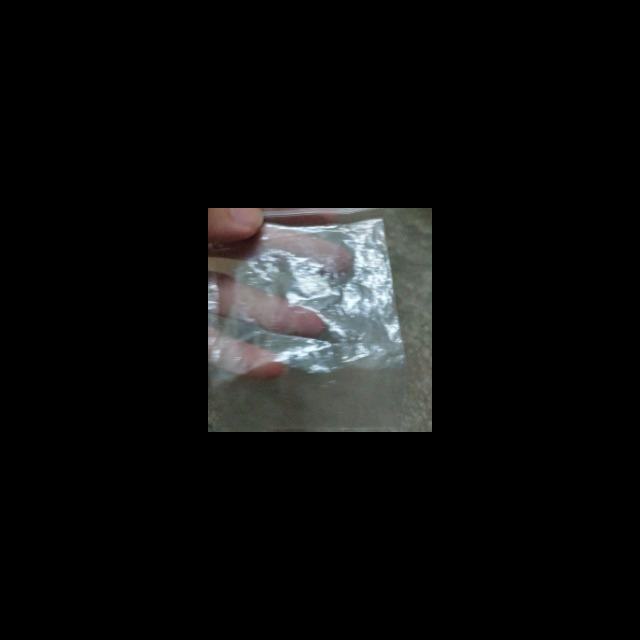plastic: (208, 208, 410, 432)
